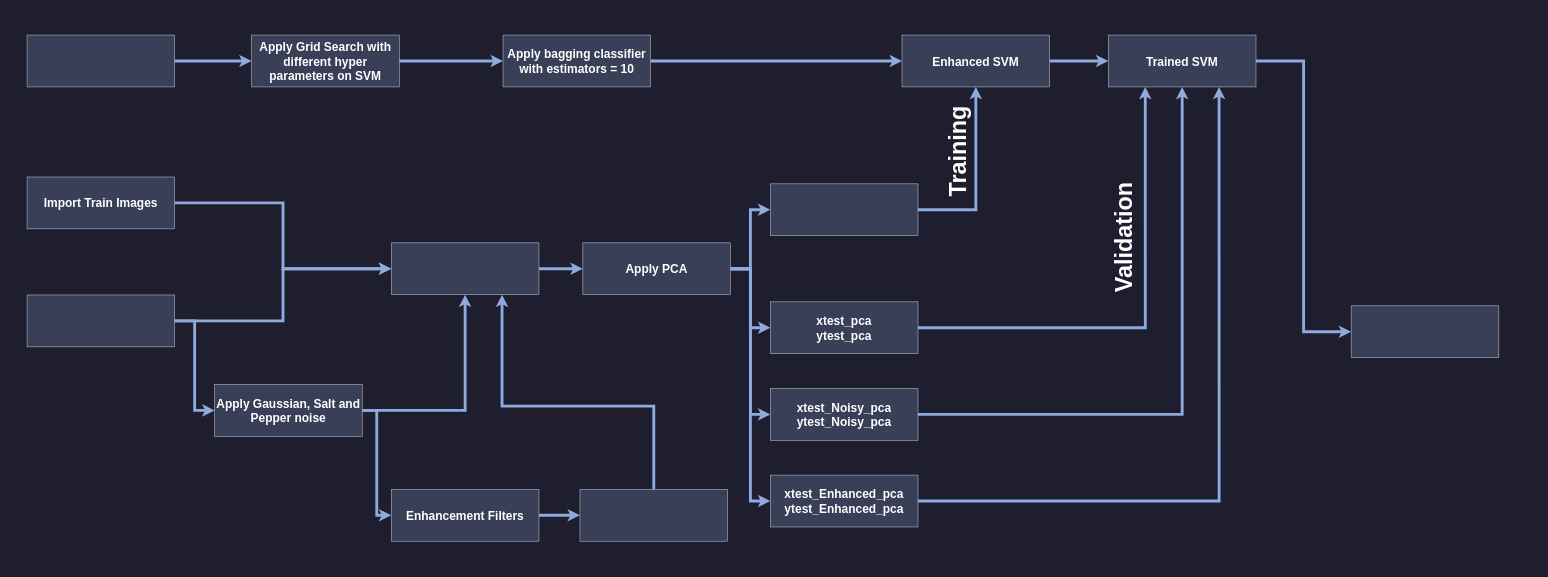
The diagram is 1548 pixels wide and 577 high, and some of its shapes have lost their labels. The shapes that lost their labels are listed below. From the top down, each one's centre as x and y in pixels, then its label:
At (101,60): "Create SVM model".
At (844,209): "xtrain_pca ytrain_pca".
At (465,268): "Scaling input images and encoding labels".
At (101,320): "Import Test Images".
At (1425,331): "Classification report Confusion matrix".
At (653,515): "Enhancement Images".
